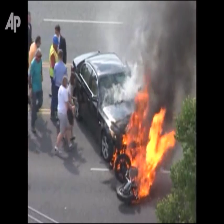fire_h: (120, 66, 176, 199)
fire_l: (116, 158, 129, 170), (111, 147, 117, 170)
